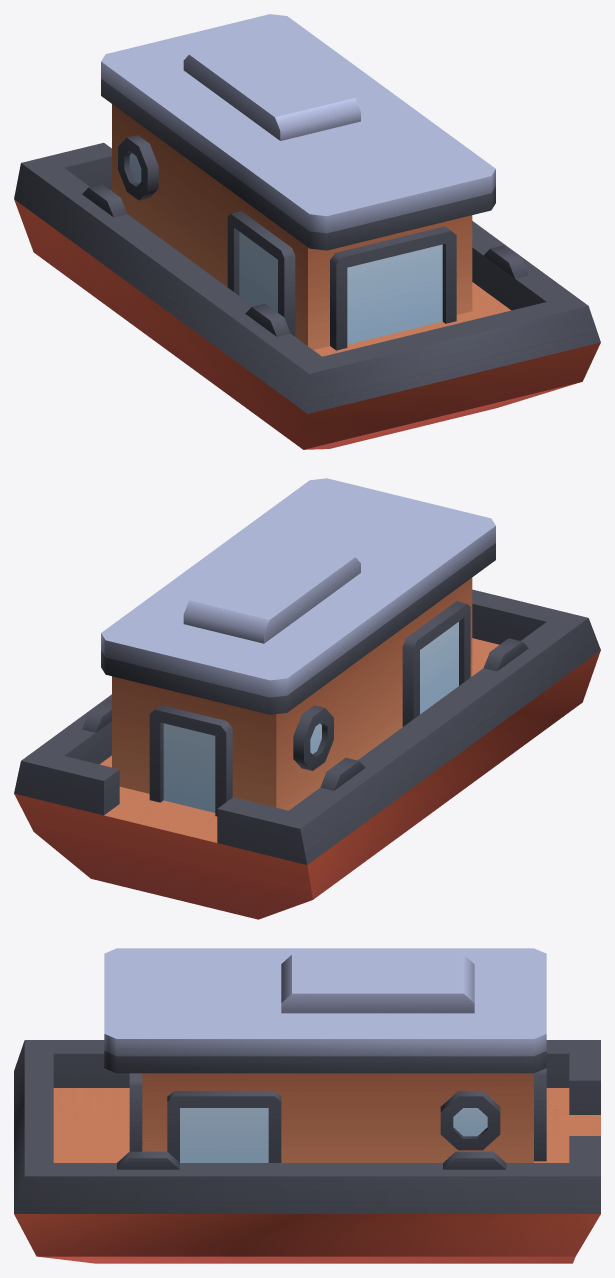
The model's file is boat-house-a.glb.
3 views of the same model, one above another, from view 1: azimuth 30°, elevation 25°; view 2: azimuth 150°, elevation 25°; view 3: azimuth 270°, elevation 25° (orthographic).
Visible parts, largest first — view 1: boat-house-a; view 2: boat-house-a; view 3: boat-house-a.
Part boxes in pixels (x1,y1,x2,y2): boat-house-a: (14, 14, 600, 449); boat-house-a: (14, 478, 600, 919); boat-house-a: (14, 948, 600, 1263).
Size of the model in its own units: 9.1 by 7.39 by 15.79.
1 material, 1 textured.
